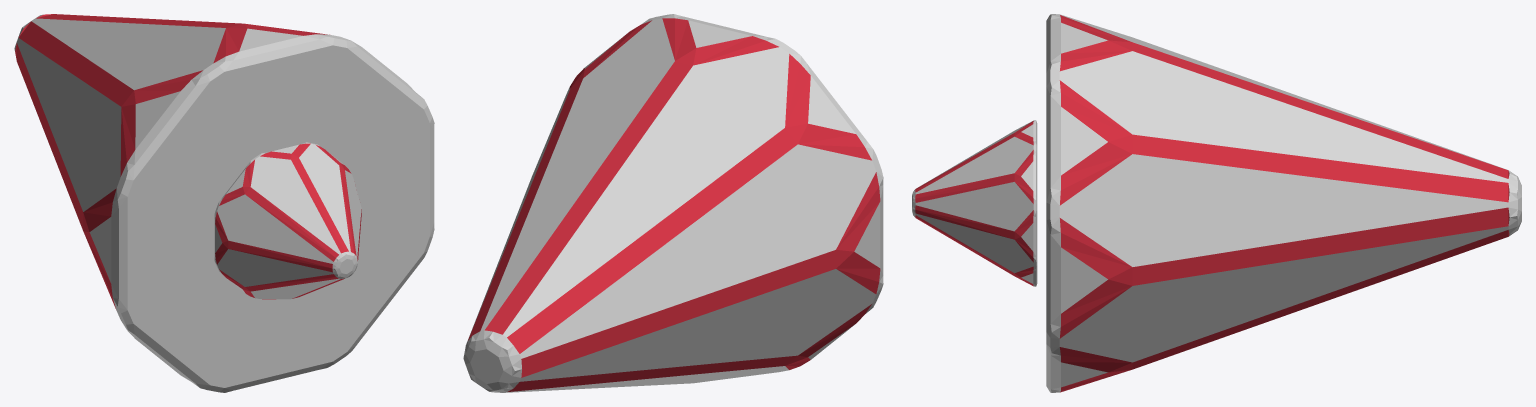
File: pointerstandin.dae
3 renders of one model, left to right at view 1: azimuth 30°, elevation 25°; view 2: azimuth 150°, elevation 25°; view 3: azimuth 270°, elevation 25°, orthographic.
Parts seen in each view (by area): view 1: Cone_000; view 2: Cone_000; view 3: Cone_000.
Boxes of the visible parts, x1,y1,x2,y2 form: Cone_000: (14,14,434,392); Cone_000: (463,14,883,392); Cone_000: (912,14,1521,392).
Bounding box in the file's own units: 0.8177 × 1.37 × 0.8177.
